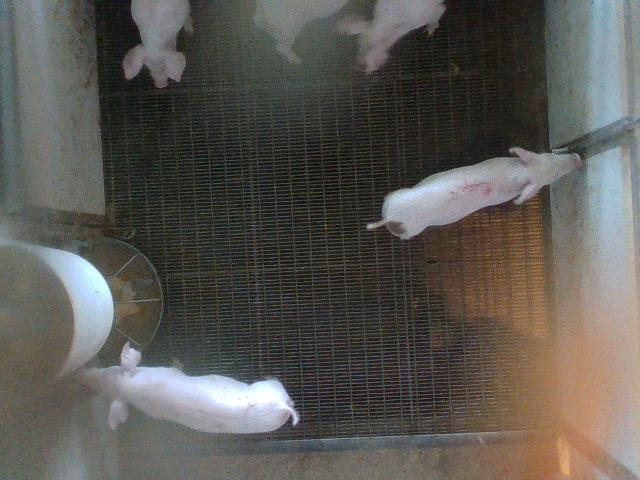pig-5: (366, 148, 581, 238)
